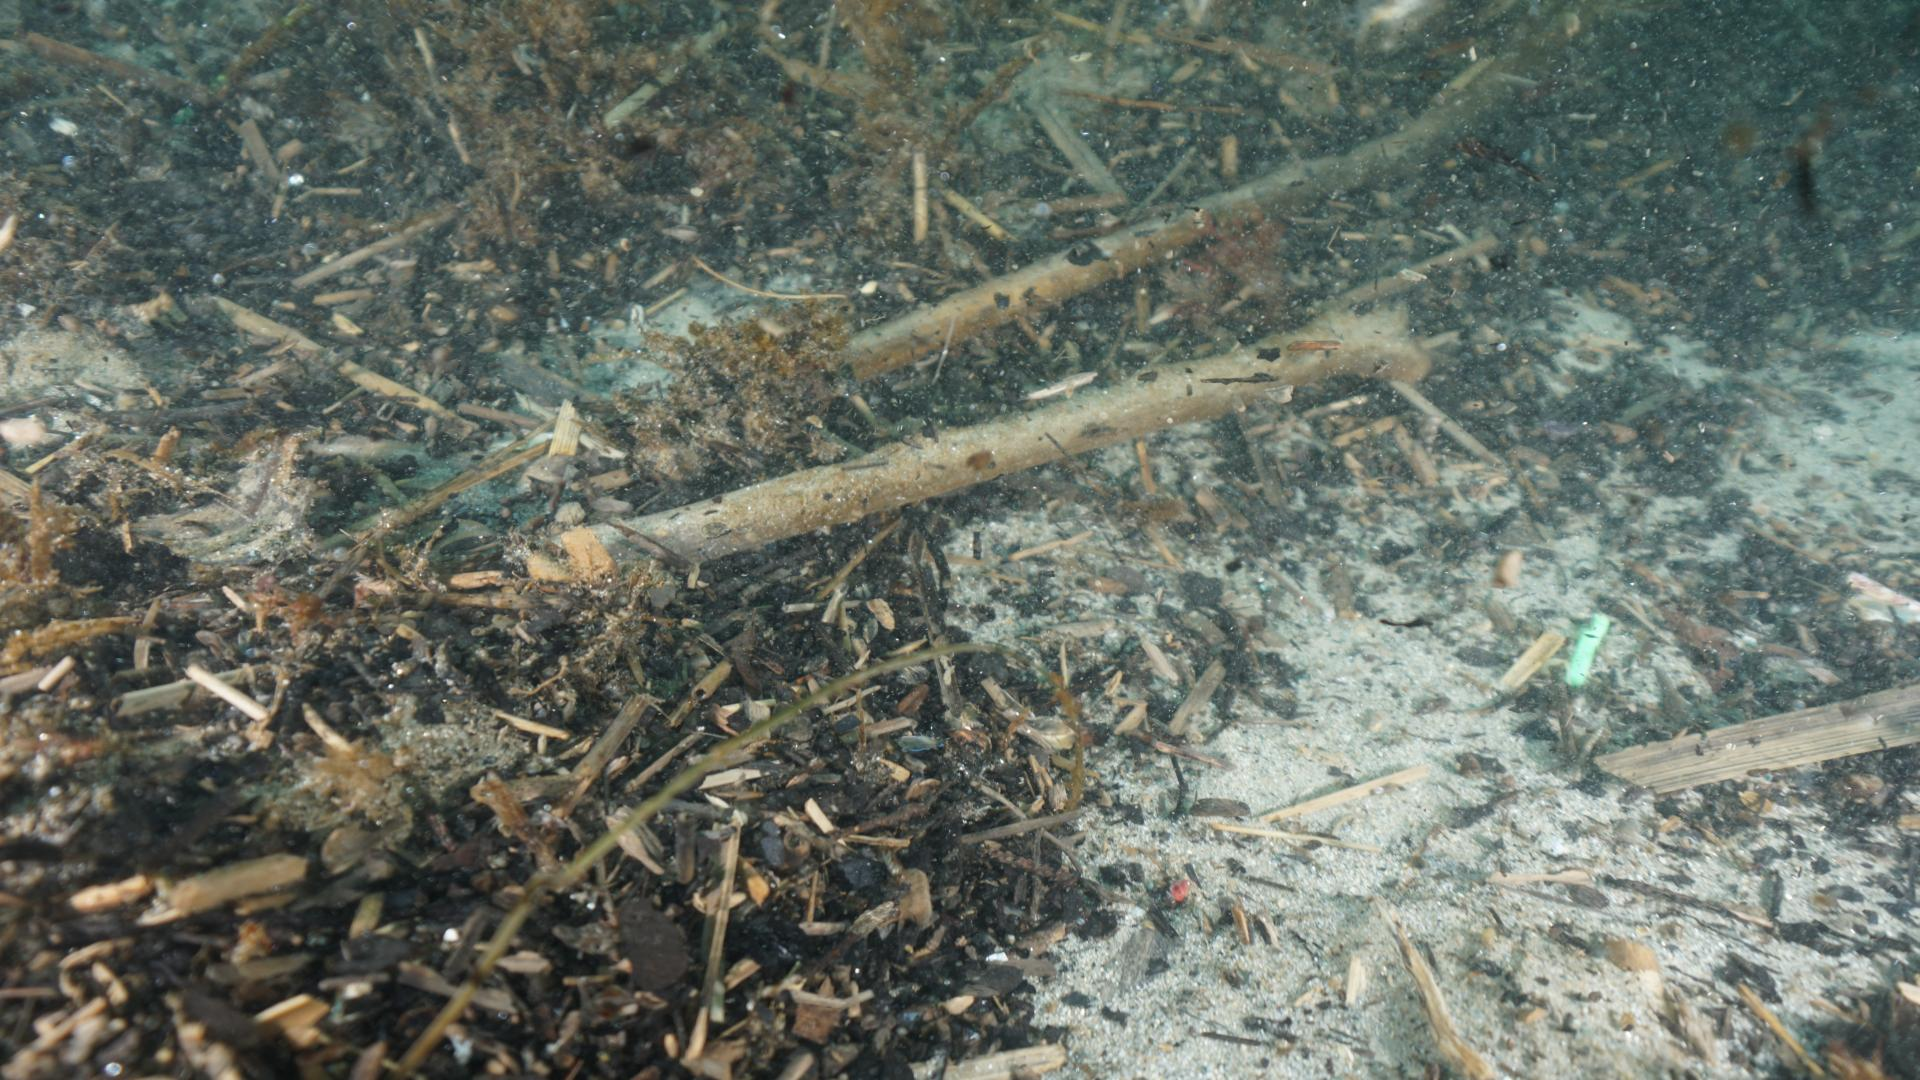wood: (525, 290, 1422, 600), (836, 33, 1553, 382)
